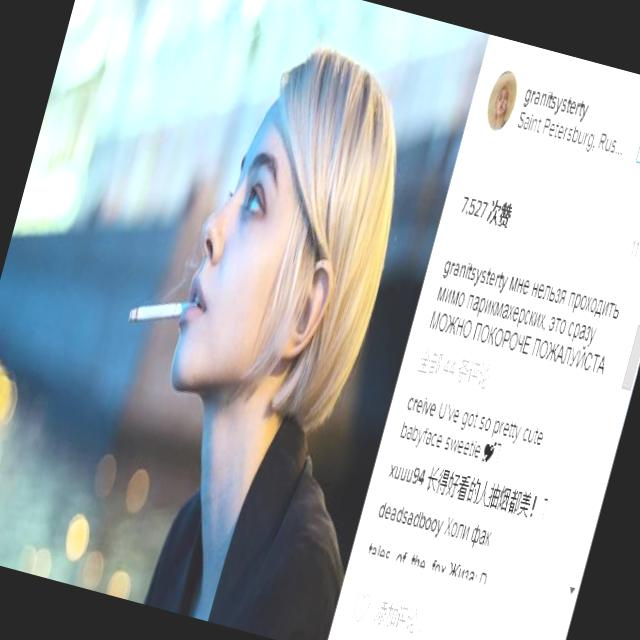cigarette: (119, 264, 210, 338)
